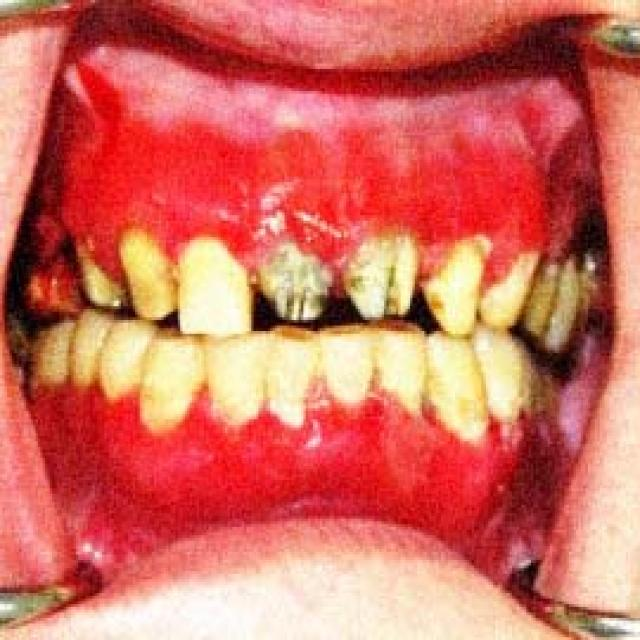caries: (258, 256, 331, 323), (349, 256, 414, 321), (272, 318, 317, 350), (321, 318, 365, 350), (370, 316, 418, 344)
